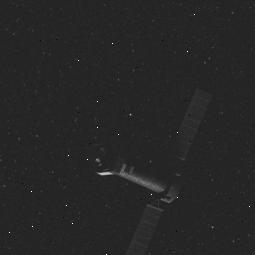xmm_newton: (112, 92, 195, 255)
